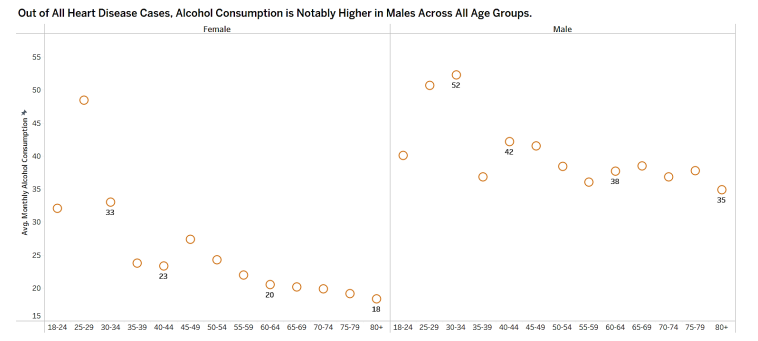

What the dashboard file says about the page in this screenshot:
{"tool":"tableau","page":{"name":"Alcohol","canvas":[1600,900],"ordinal":2},"visuals":[{"type":"worksheet","title":"Alcohol Dist. vs. CVD","mark":"Shape","rows":["Alcohol_Consumption"],"cols":["Sex","Age_Category"],"box":[60,33,1515,691]},{"type":"text","box":[47,754,943,84]}]}

Visuals, with their boxes on the page's 1600x900 design canvas (x1, y1, x2, y2). These are canvas units, not pixel positions in the 758x341 screenshot, which may show the page scaled, cropped or inside an application window:
"Alcohol Dist. vs. CVD" worksheet (Shape marks): [left=60, top=33, right=1575, bottom=724]
text: [left=47, top=754, right=990, bottom=838]
